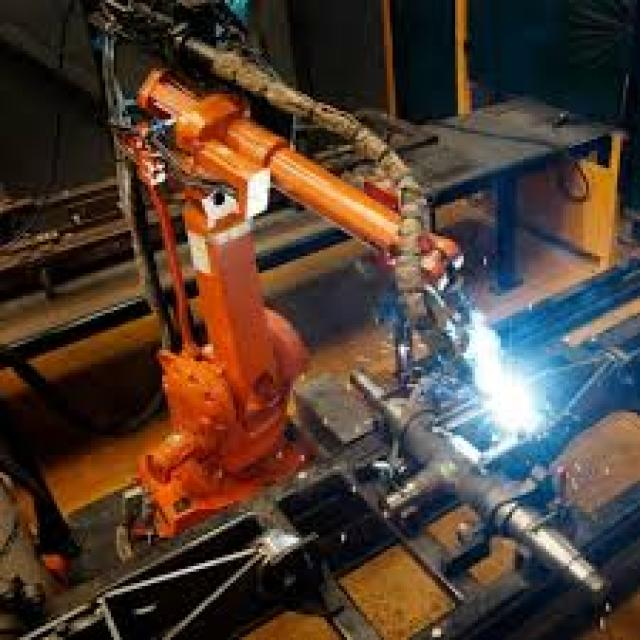welding: (475, 354, 545, 429)
